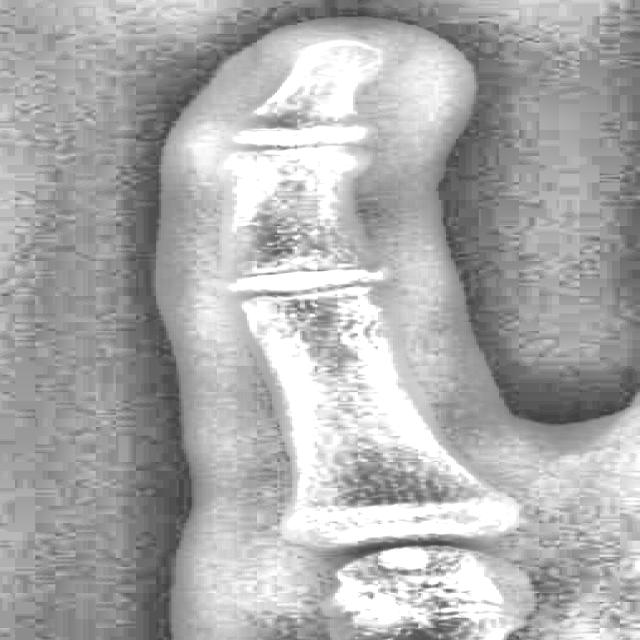fracture: (338, 255, 400, 292)
